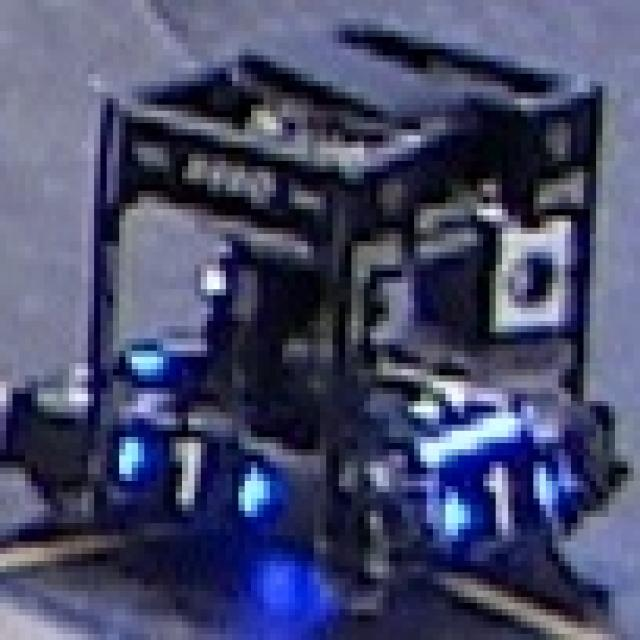B1: (113, 431, 270, 523), (439, 456, 552, 542)
